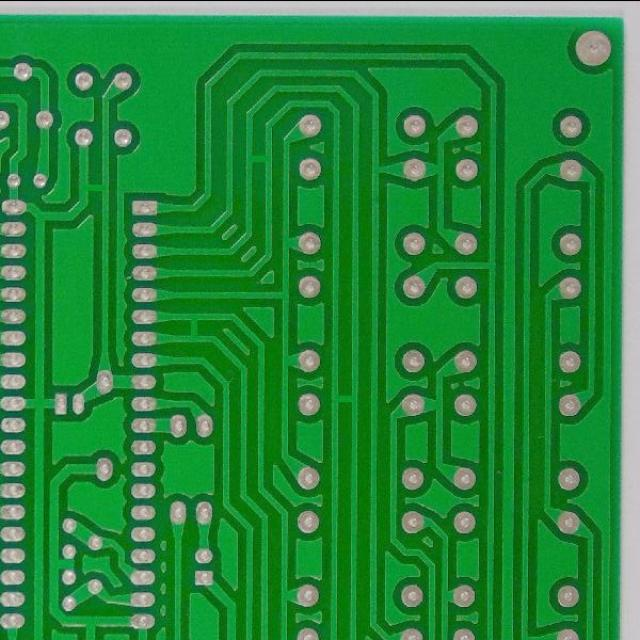Short_Circuit: (327, 384, 364, 413), (75, 174, 113, 201), (182, 307, 207, 348), (241, 145, 276, 173)
